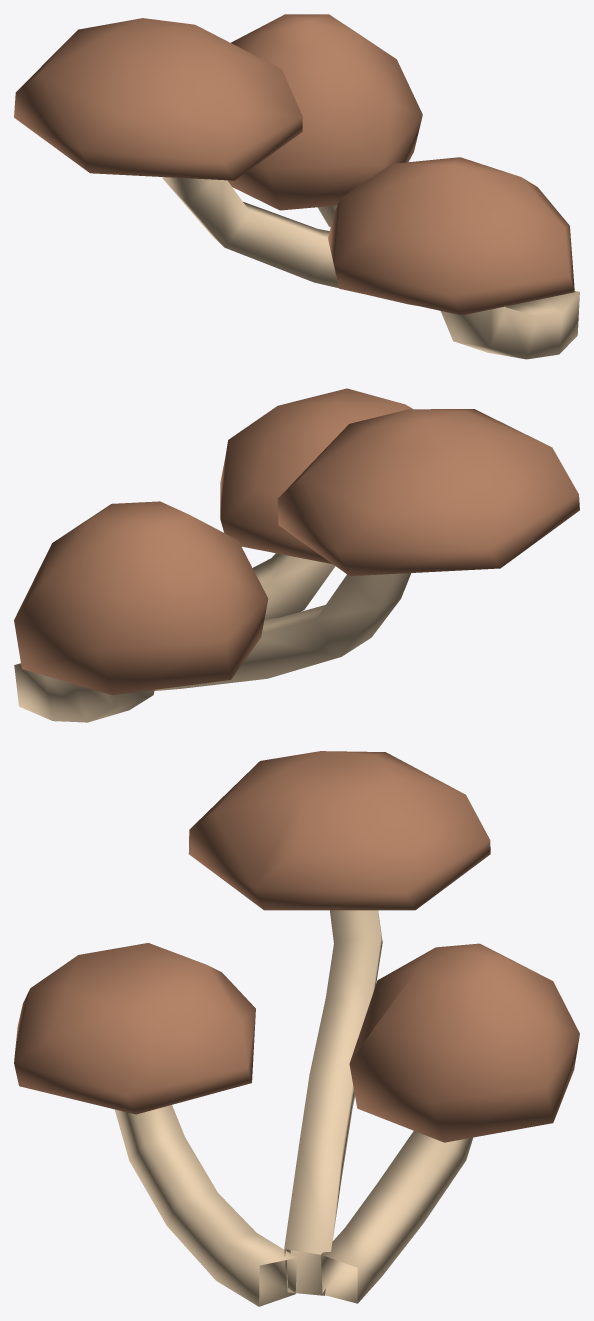
The model's file is Mushroom 2.fbx.
3 views of the same model, one above another, from view 1: azimuth 30°, elevation 25°; view 2: azimuth 150°, elevation 25°; view 3: azimuth 270°, elevation 25° (orthographic). The views are drawn at different scales.
Parts seen in each view (by area): view 1: Mushroom 2; view 2: Mushroom 2; view 3: Mushroom 2.
Boxes of the visible parts, left/top/right/bottom form: Mushroom 2: left=14, top=14, right=579, bottom=359; Mushroom 2: left=14, top=388, right=579, bottom=722; Mushroom 2: left=14, top=751, right=579, bottom=1306.
Size of the model in its own units: 0.264 by 0.1846 by 0.2627.
